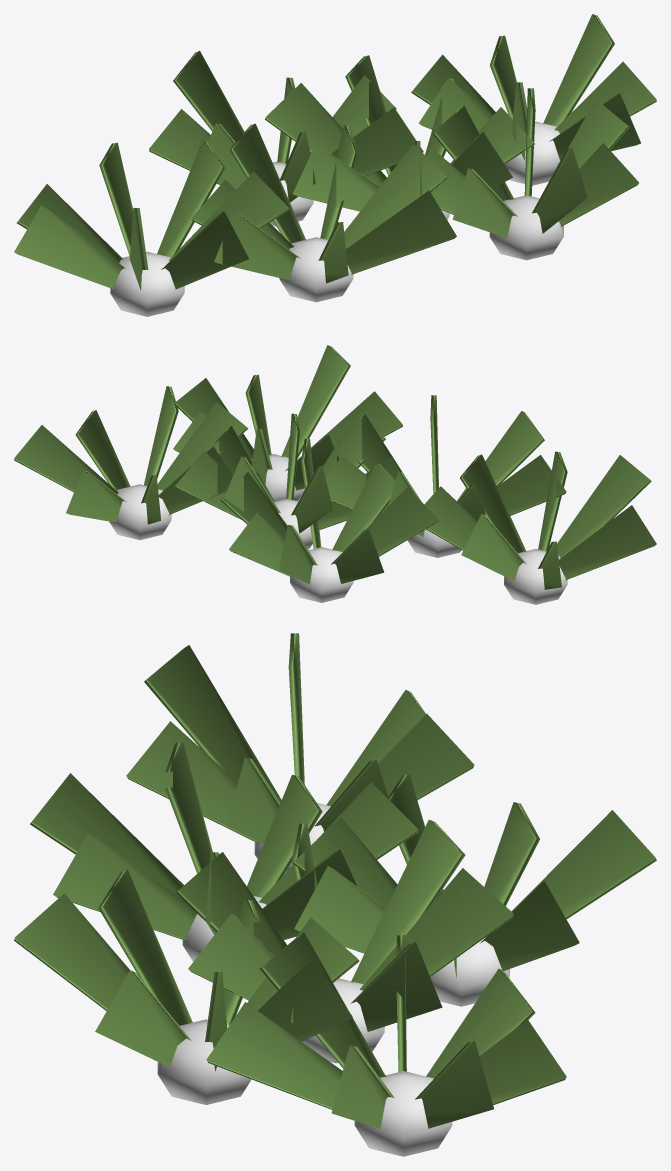
File: farm_rootleaf_stage4.glb
3 renders of one model, top to bottom at view 1: azimuth 30°, elevation 25°; view 2: azimuth 150°, elevation 25°; view 3: azimuth 270°, elevation 25°, orthographic. The views are drawn at different scales.
Visible parts, largest first — view 1: FarmBody, CropAccent; view 2: FarmBody, CropAccent; view 3: FarmBody, CropAccent.
Part boxes in pixels (<box>): FarmBody: <box>14,14,656,290</box>; CropAccent: <box>110,121,563,316</box>; FarmBody: <box>14,345,656,589</box>; CropAccent: <box>109,454,567,604</box>; FarmBody: <box>14,633,656,1128</box>; CropAccent: <box>157,803,509,1156</box>.
Size of the model in its own units: 2.72 by 0.58 by 1.71.
